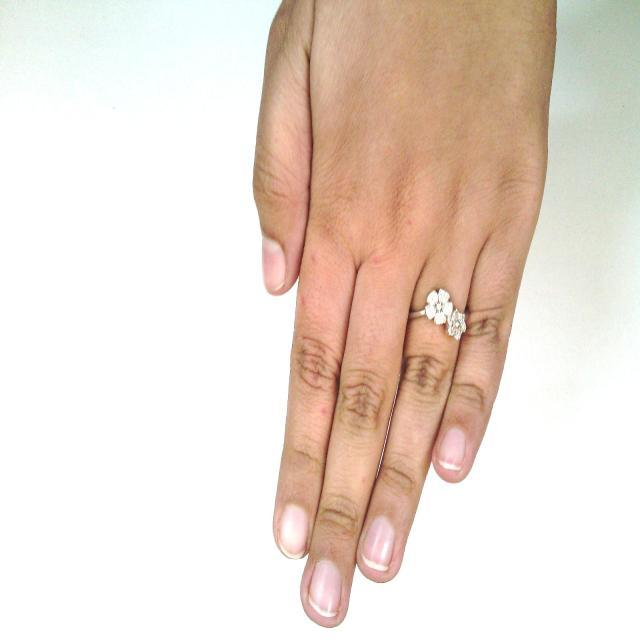Fingernail: (309, 561, 343, 617), (363, 517, 394, 567), (279, 505, 309, 556), (263, 240, 286, 291), (438, 429, 466, 469)
